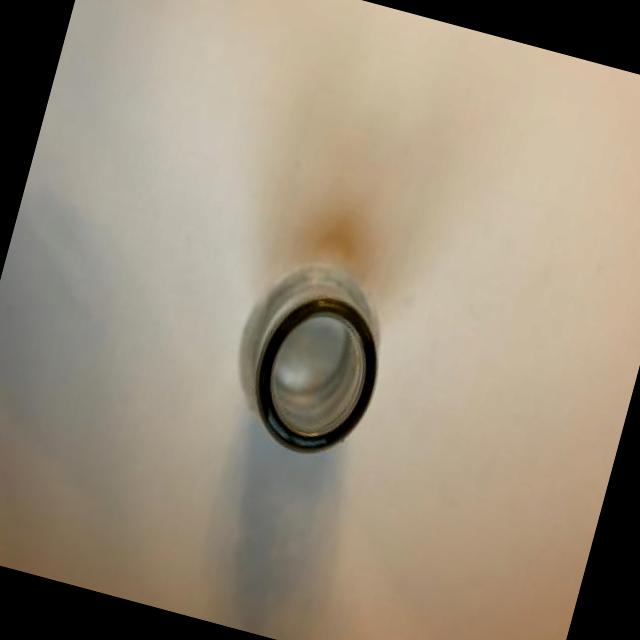kim_loai: (239, 268, 377, 452)
